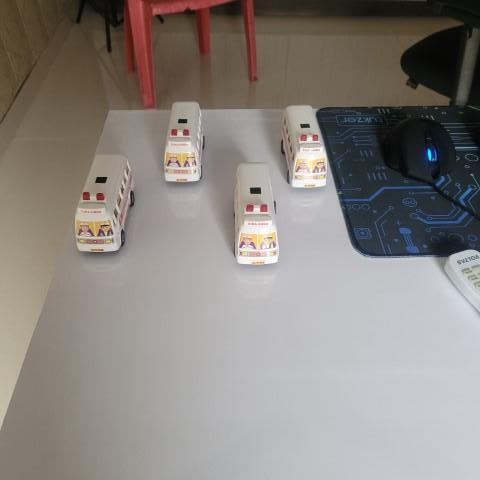ambulance: (73, 147, 138, 255), (229, 159, 284, 269), (159, 94, 211, 190), (278, 100, 329, 192)
